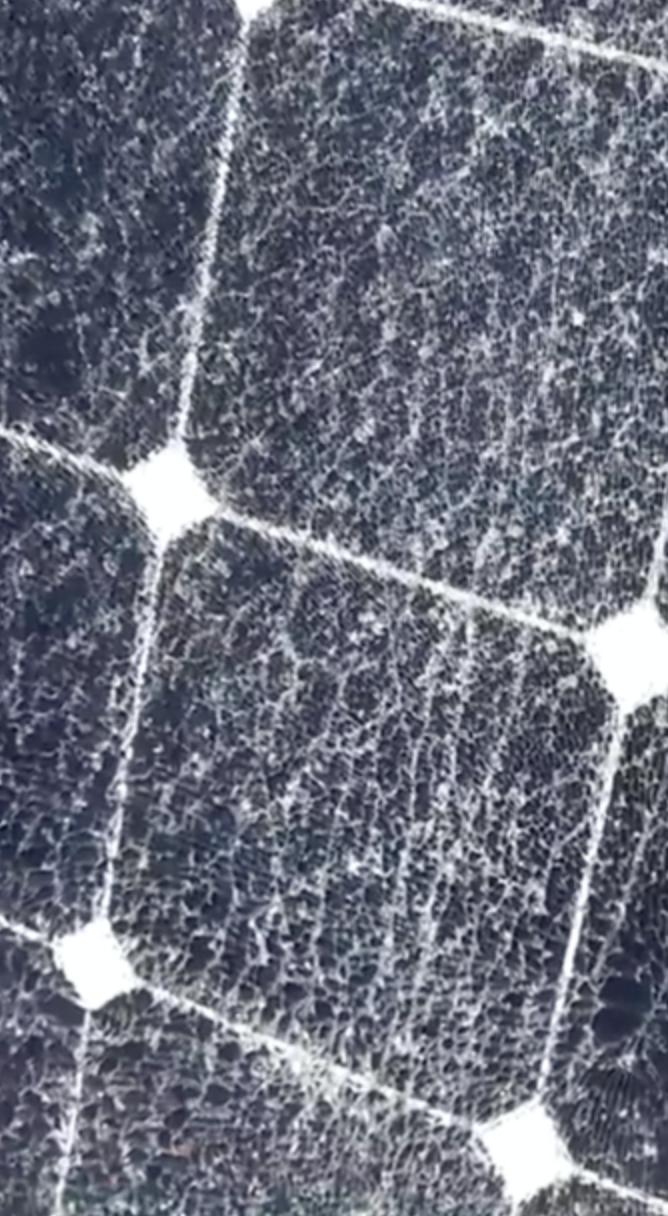Crack: (10, 11, 668, 1212)
